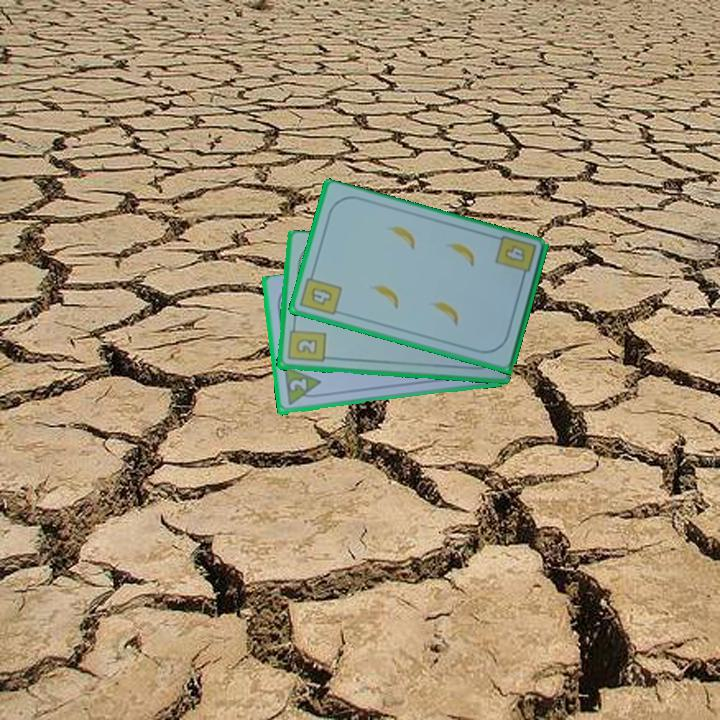2b: (284, 321, 328, 365)
2p: (280, 364, 325, 409)
4b: (296, 268, 345, 318), (492, 232, 539, 284)
